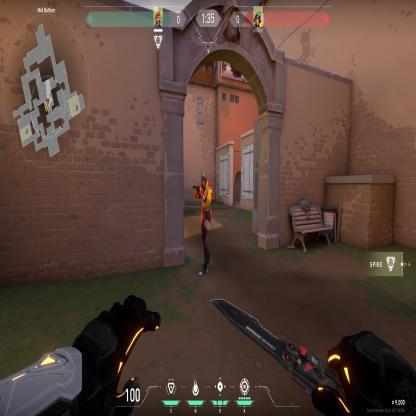enemy: (194, 168, 214, 278)
